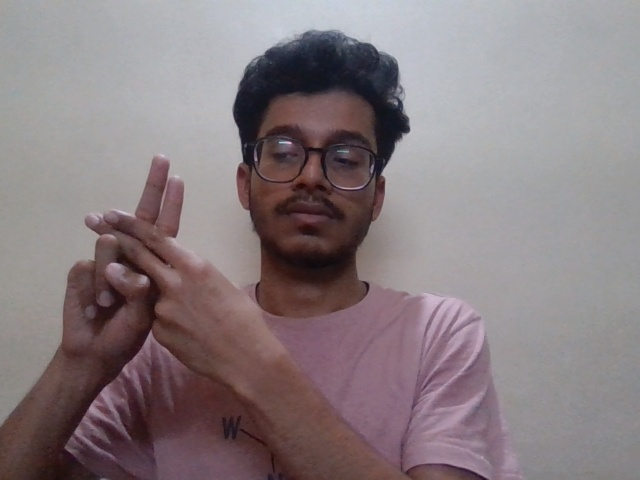disabled: (33, 136, 286, 392)
